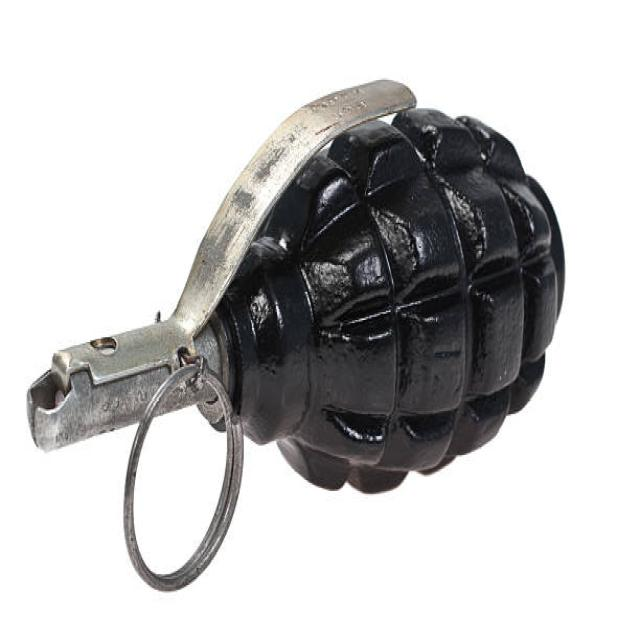grenade: (17, 64, 579, 606)
